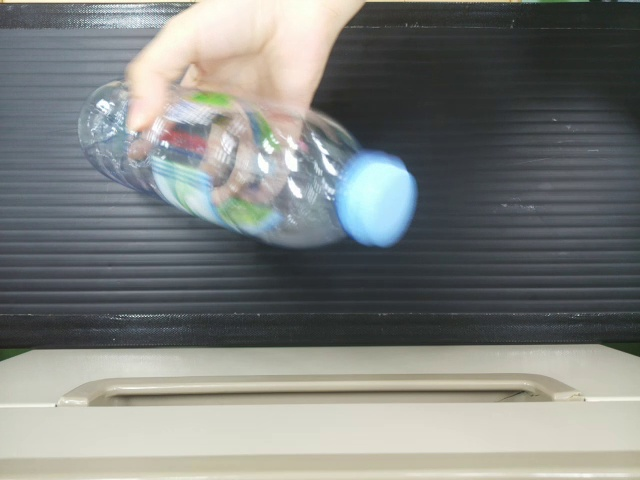bottle: (69, 74, 416, 255)
